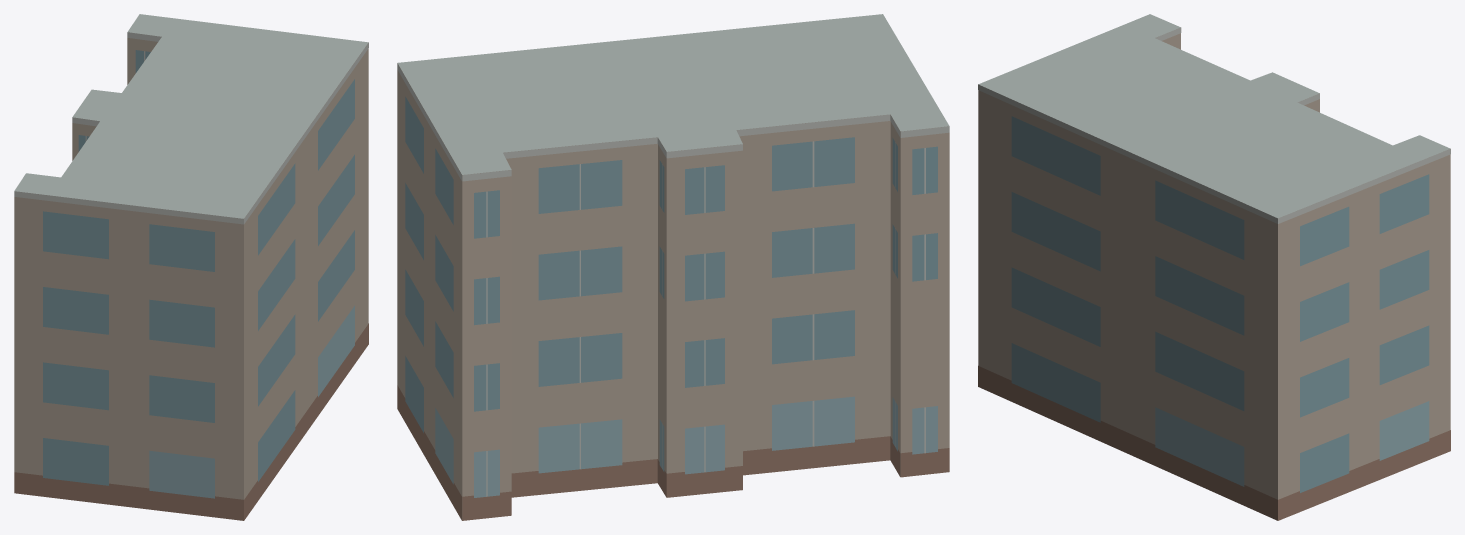
The model's file is survey-upis-32755152.glb.
The picture shows the model from 3 angles, left to right: view 1: azimuth 30°, elevation 25°; view 2: azimuth 150°, elevation 25°; view 3: azimuth 270°, elevation 25°; orthographic projection. The views are drawn at different scales.
Visible parts, largest first — view 1: survey-upis-32755152.tmp; view 2: survey-upis-32755152.tmp; view 3: survey-upis-32755152.tmp.
Boxes of the visible parts, x1=… form: survey-upis-32755152.tmp: x1=14, y1=14, x2=368, y2=520; survey-upis-32755152.tmp: x1=397, y1=14, x2=949, y2=520; survey-upis-32755152.tmp: x1=978, y1=14, x2=1450, y2=520.
Size of the model in its own units: 18.85 by 13 by 18.42.
